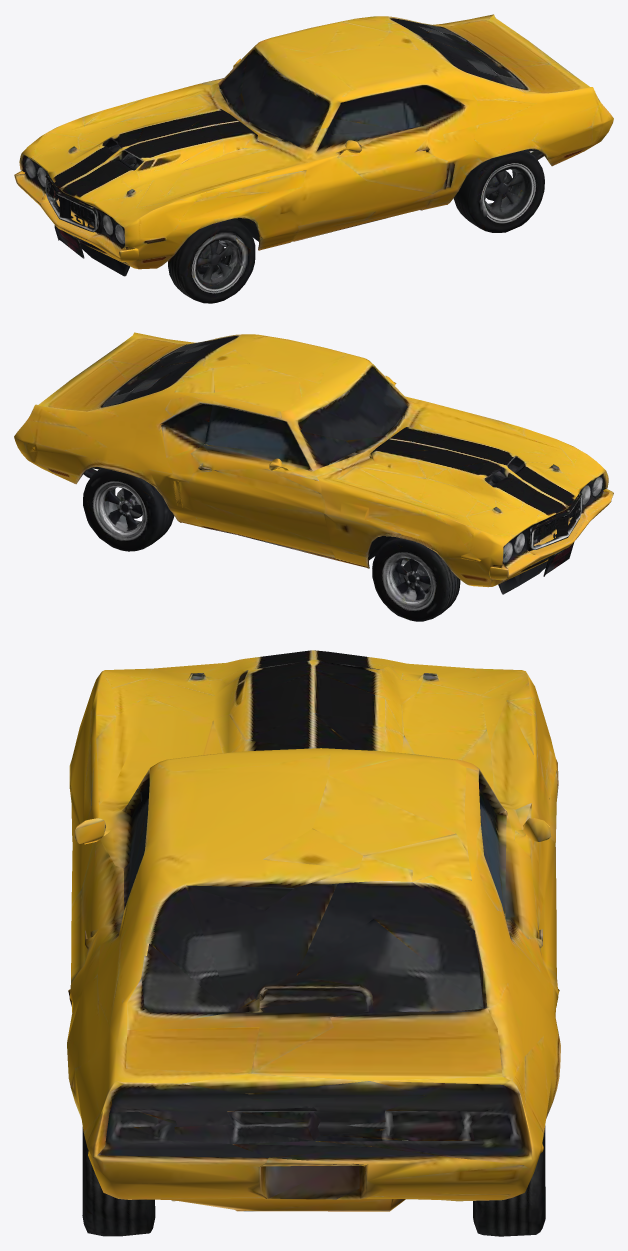
The model's file is car_accel.glb.
3 views of the same model, one above another, from view 1: azimuth 30°, elevation 25°; view 2: azimuth 150°, elevation 25°; view 3: azimuth 270°, elevation 25° (orthographic). The views are drawn at different scales.
Bounding box in the file's own units: 1.9 × 0.5939 × 0.8013.
1 material, 1 textured.
